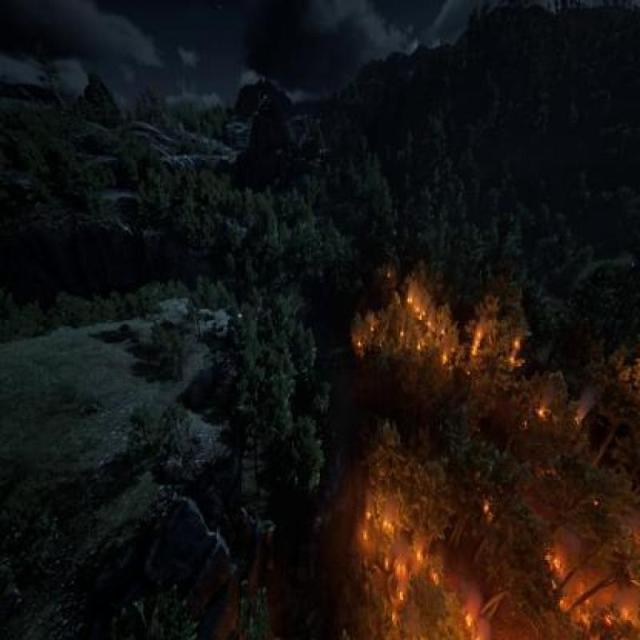Fire: (351, 483, 502, 640), (355, 258, 525, 382), (545, 527, 640, 640), (530, 380, 587, 438), (617, 334, 640, 392)
